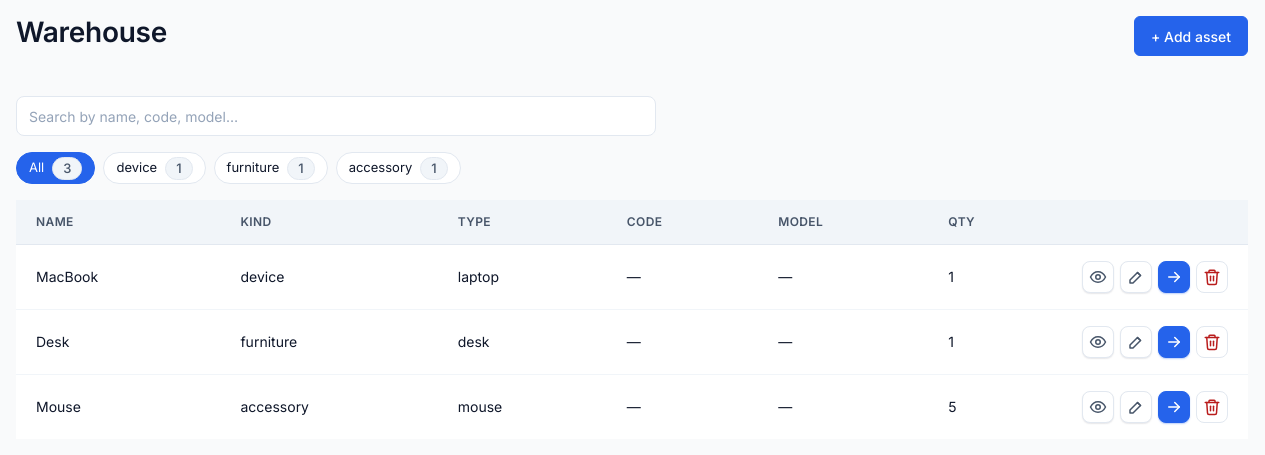
kind filter chips narrow the table to the selected kind
Expected: the text "MacBook" is shown, [16,244,220,309]
Expected: the text "Desk" is shown, [16,309,220,374]
Click the tab "furniture 1". click: (271, 168)
box: [214,152,328,184]
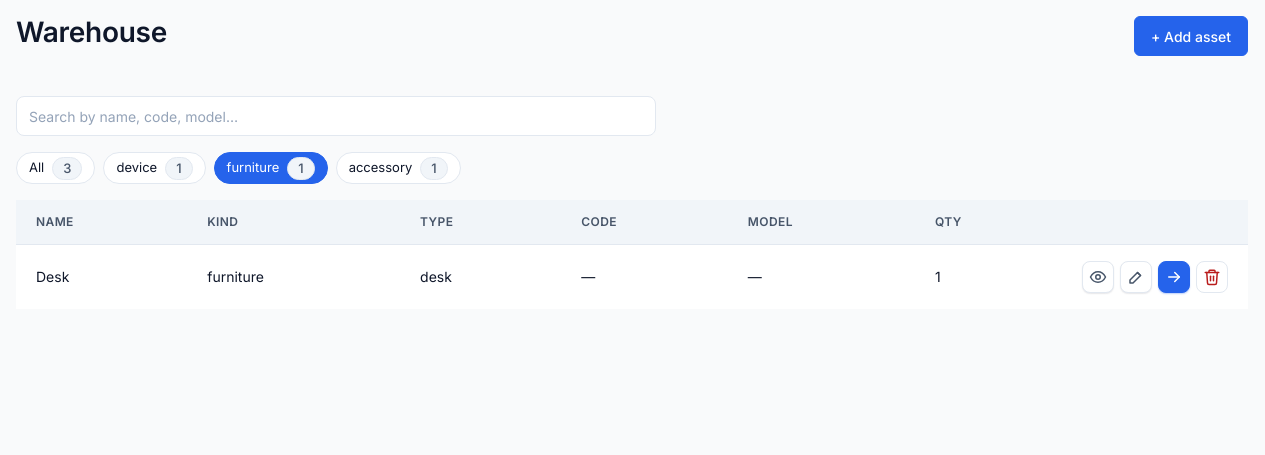
Expected: the text "Desk" is shown, [16,244,187,308]
Expected: the text "MacBook" is gone
Expected: the text "Mouse" is gone
Note: Click "All" to reset
Click the tab "All 3". click: (56, 168)
box: [16,152,95,184]
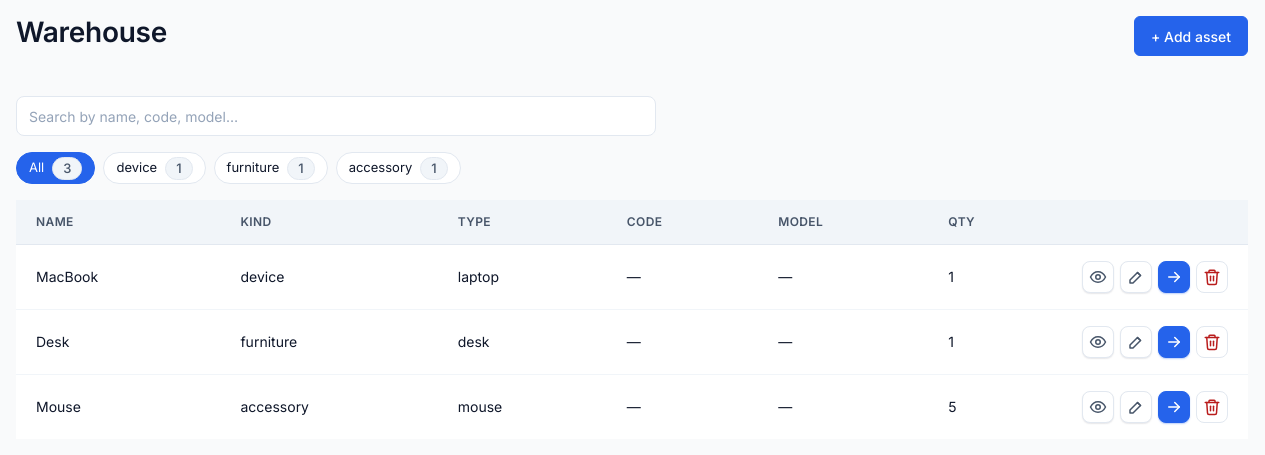
Expected: the text "MacBook" is shown, [16,244,220,309]
